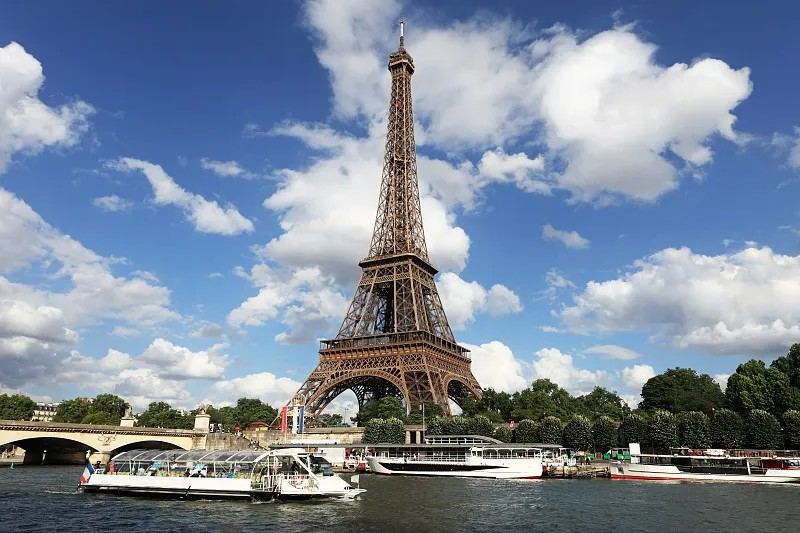Eiffel: (267, 21, 494, 426)
